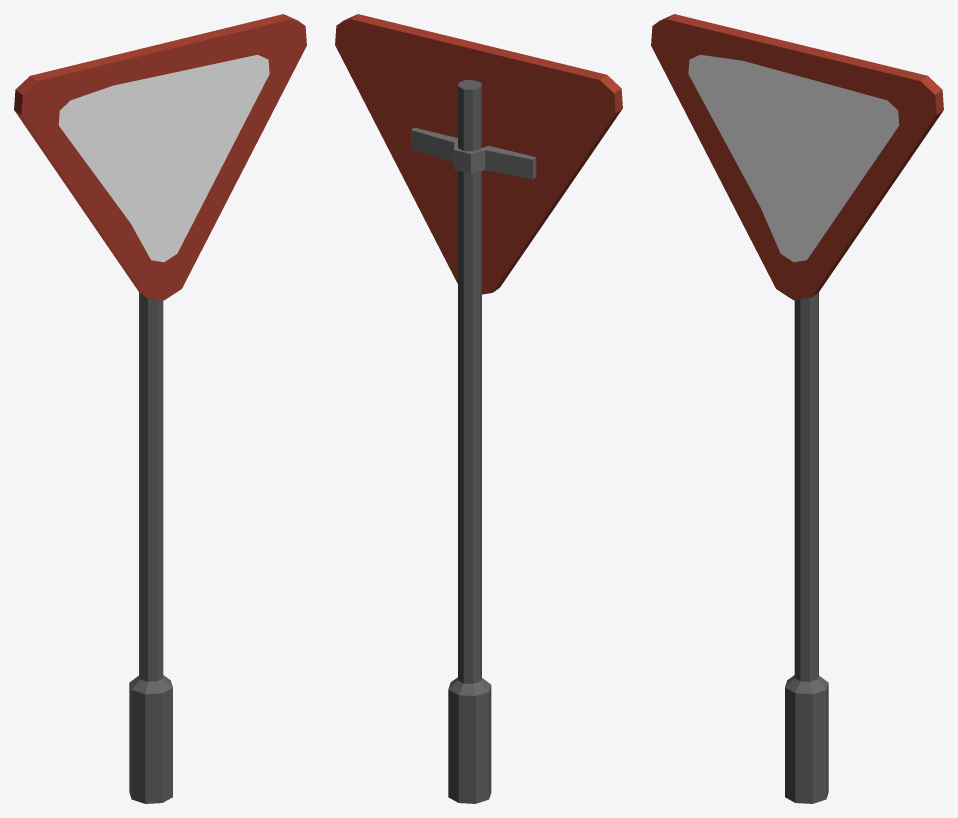
File: SM_Prop_Sign_GiveWay_01.glb
3 views of the same model, side by side, from view 1: azimuth 30°, elevation 25°; view 2: azimuth 150°, elevation 25°; view 3: azimuth 330°, elevation 25° (orthographic).
Parts seen in each view (by area): view 1: SM_Prop_Sign_GiveWay_01; view 2: SM_Prop_Sign_GiveWay_01; view 3: SM_Prop_Sign_GiveWay_01.
Part boxes in pixels (x1,y1,x2,y2): SM_Prop_Sign_GiveWay_01: [14, 14, 306, 803]; SM_Prop_Sign_GiveWay_01: [335, 14, 622, 803]; SM_Prop_Sign_GiveWay_01: [651, 14, 943, 803].
Bounding box in the file's own units: 0.00865 × 0.0218 × 0.00127.
Materials: 1 (1 with a texture image).
